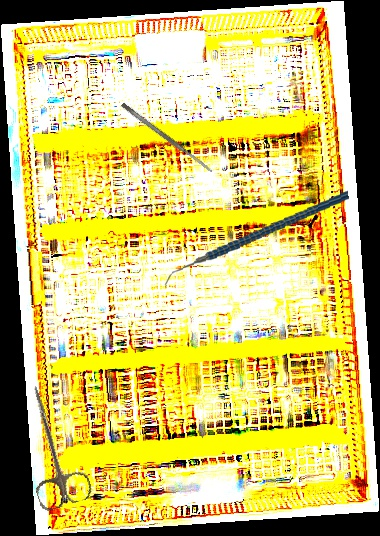Chopper: (157, 189, 356, 292)
Iris Scissors: (6, 379, 95, 513)
Spatula Surgical: (120, 101, 214, 175)
